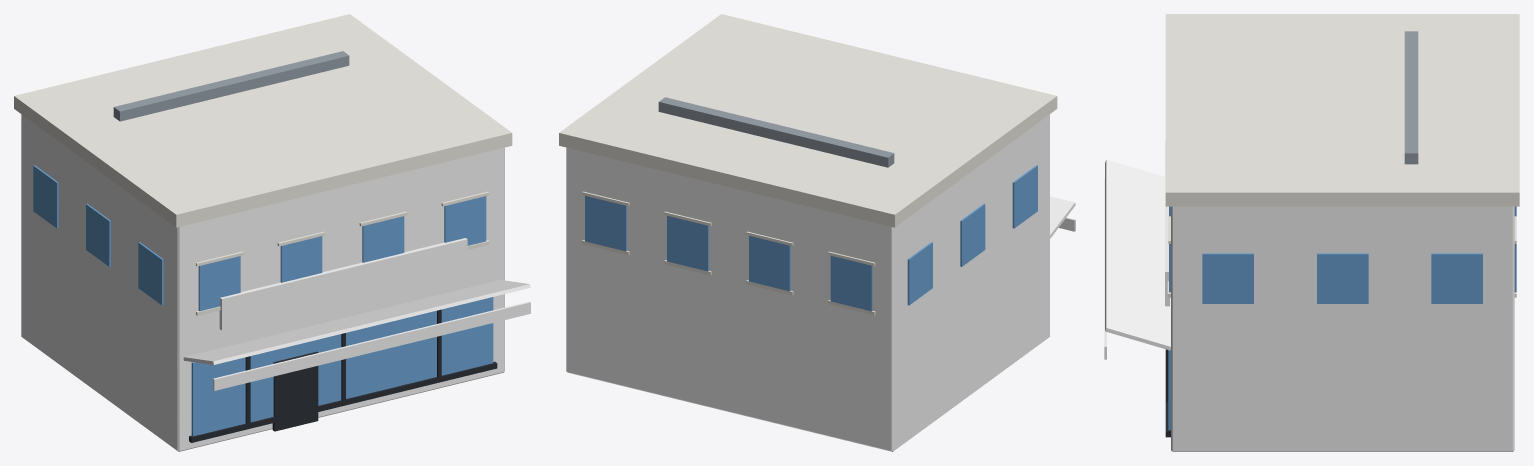
File: shop.glb
The picture shows the model from 3 angles, left to right: view 1: azimuth 30°, elevation 25°; view 2: azimuth 150°, elevation 25°; view 3: azimuth 270°, elevation 25°; orthographic projection. The views are drawn at different scales.
Parts seen in each view (by area): view 1: shop_walls, shop_awning, shop_sign; view 2: shop_walls, shop_awning; view 3: shop_walls, shop_awning, shop_sign.
Part boxes in pixels (x1,y1,x2,y2): shop_walls: (14,14,512,451); shop_awning: (183,280,530,390); shop_sign: (219,238,467,330); shop_walls: (559,14,1057,451); shop_awning: (1050,196,1075,238); shop_walls: (1165,14,1519,451); shop_awning: (1104,159,1170,359); shop_sign: (1165,141,1169,306).
Bounding box in the file's own units: 12.3 × 8.78 × 12.09.
